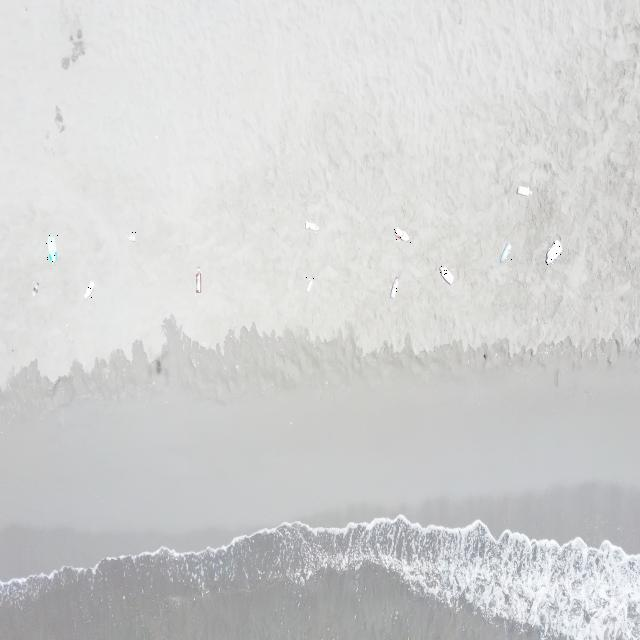Garbage: (544, 241, 560, 263), (45, 233, 55, 261), (393, 227, 409, 241), (500, 242, 511, 261), (440, 266, 452, 283), (83, 280, 94, 298), (304, 220, 318, 230), (391, 276, 397, 298), (517, 184, 528, 195), (306, 276, 313, 291), (196, 268, 200, 292), (32, 281, 37, 295), (128, 231, 135, 240)
